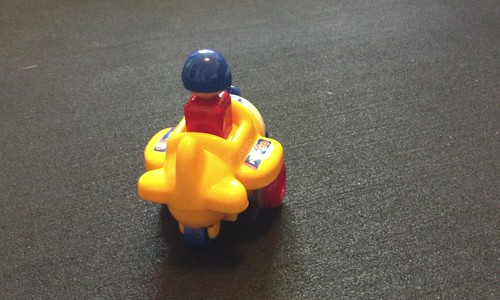toy: (128, 44, 303, 255)
